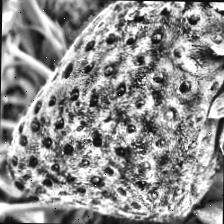Powdery Mildew Fruit: (2, 0, 224, 223)
